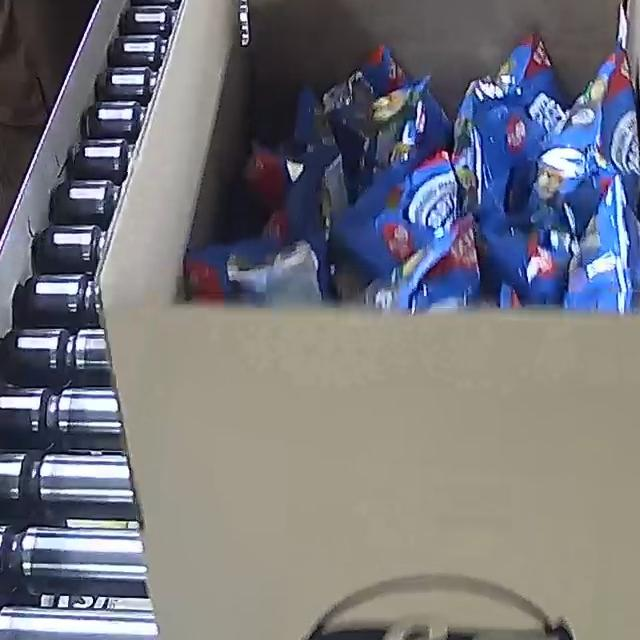paprika: (183, 28, 640, 315)
